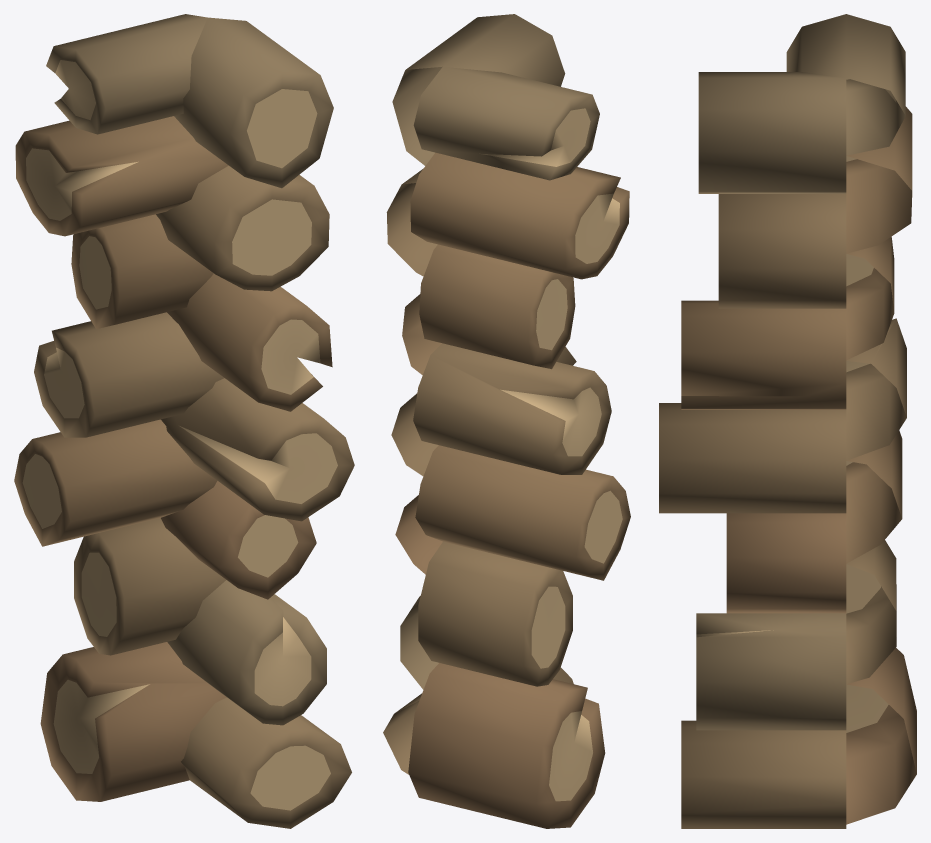
Rendered from rpgpp_ag_wall_connector_corner_02_3m.fbx.
The picture shows the model from 3 angles, left to right: view 1: azimuth 30°, elevation 25°; view 2: azimuth 150°, elevation 25°; view 3: azimuth 270°, elevation 25°; orthographic projection. The views are drawn at different scales.
Parts seen in each view (by area): view 1: rpgpp_ag_wall_connector_corner_02_3m; view 2: rpgpp_ag_wall_connector_corner_02_3m; view 3: rpgpp_ag_wall_connector_corner_02_3m.
Part boxes in pixels (x1,y1,x2,y2): rpgpp_ag_wall_connector_corner_02_3m: (14, 14, 354, 828); rpgpp_ag_wall_connector_corner_02_3m: (383, 14, 630, 828); rpgpp_ag_wall_connector_corner_02_3m: (659, 14, 916, 828).
Bounding box in the file's own units: 0.9501 × 3 × 0.9386.
